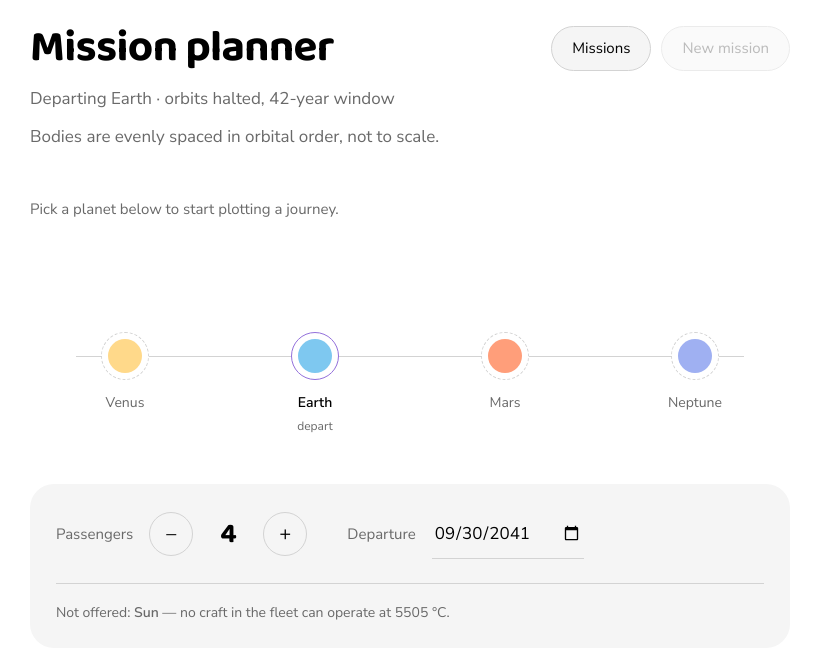
planner screen › evaluates the fleet once a destination is chosen
The image size is (821, 649).
Click the button "Mars".
click(505, 380)  # box [410,324,600,436]
(page scrolled)
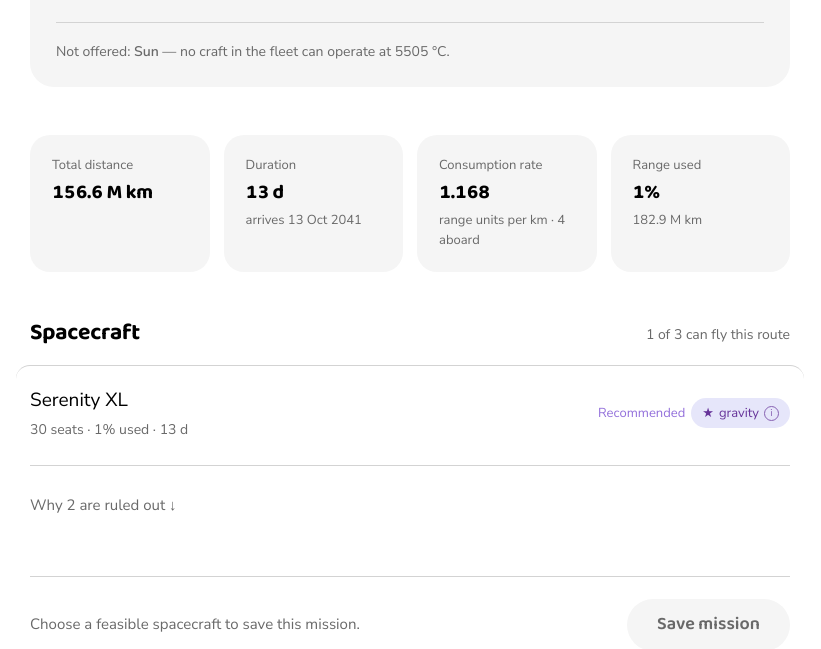
Expected: the text "Serenity XL" is shown, [30,387,128,413]
Expected: the text "1 of 3 can fly this route" is shown, [646,324,790,346]
